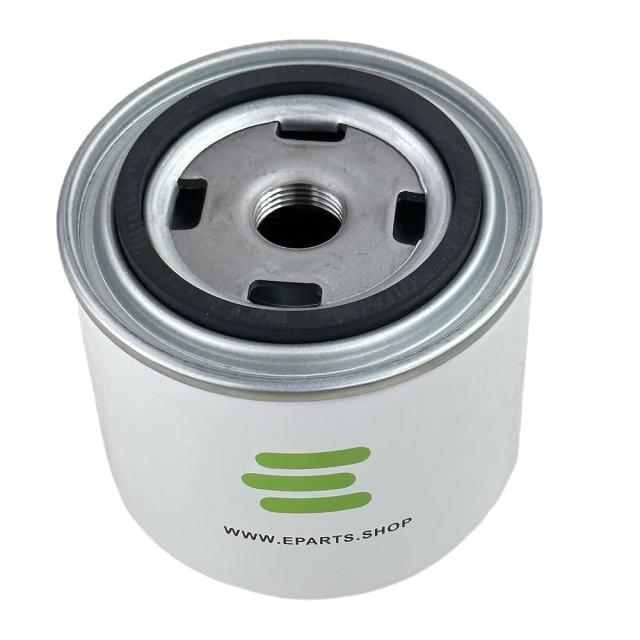oil_filter: (64, 38, 535, 609)
